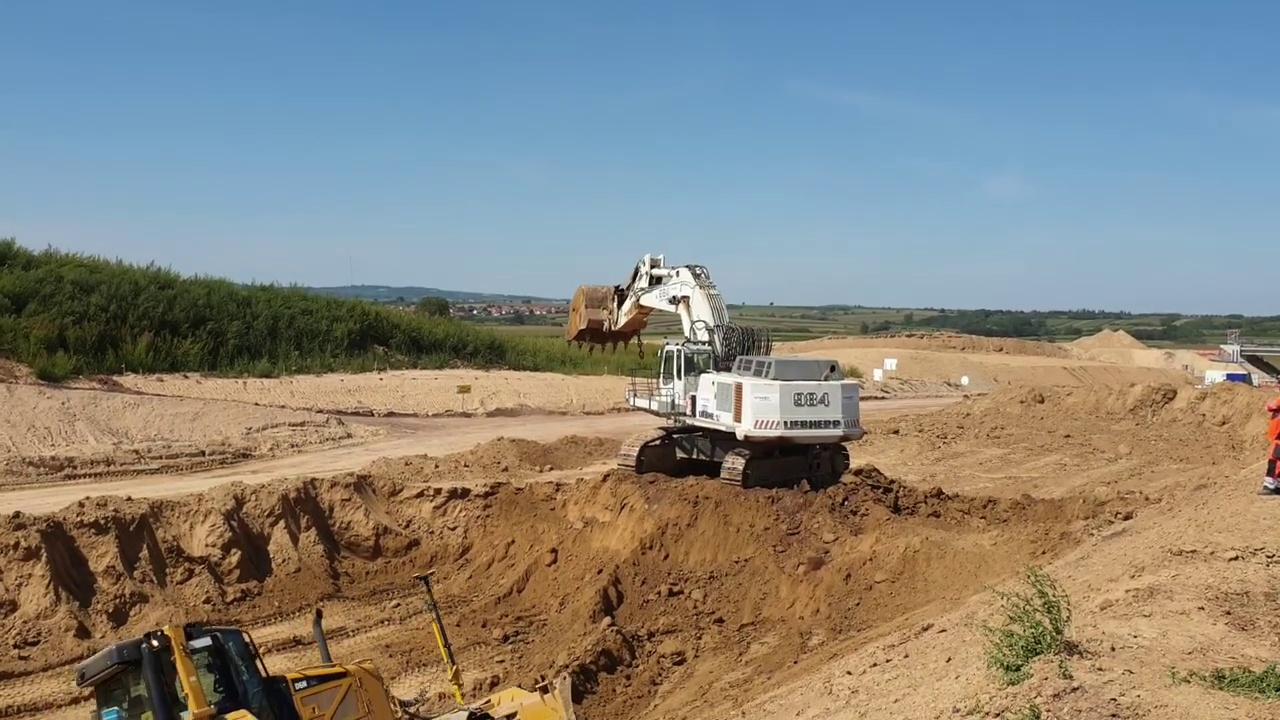bulldozer: (70, 558, 580, 720)
excavator: (556, 250, 871, 498)
worker: (1257, 362, 1280, 500)
